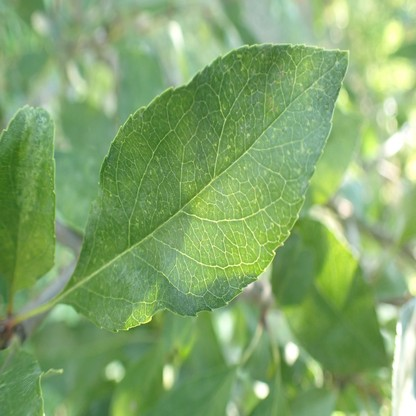powdery_mildew: (116, 254, 142, 301), (85, 198, 99, 240)
scab: (18, 111, 43, 222)
